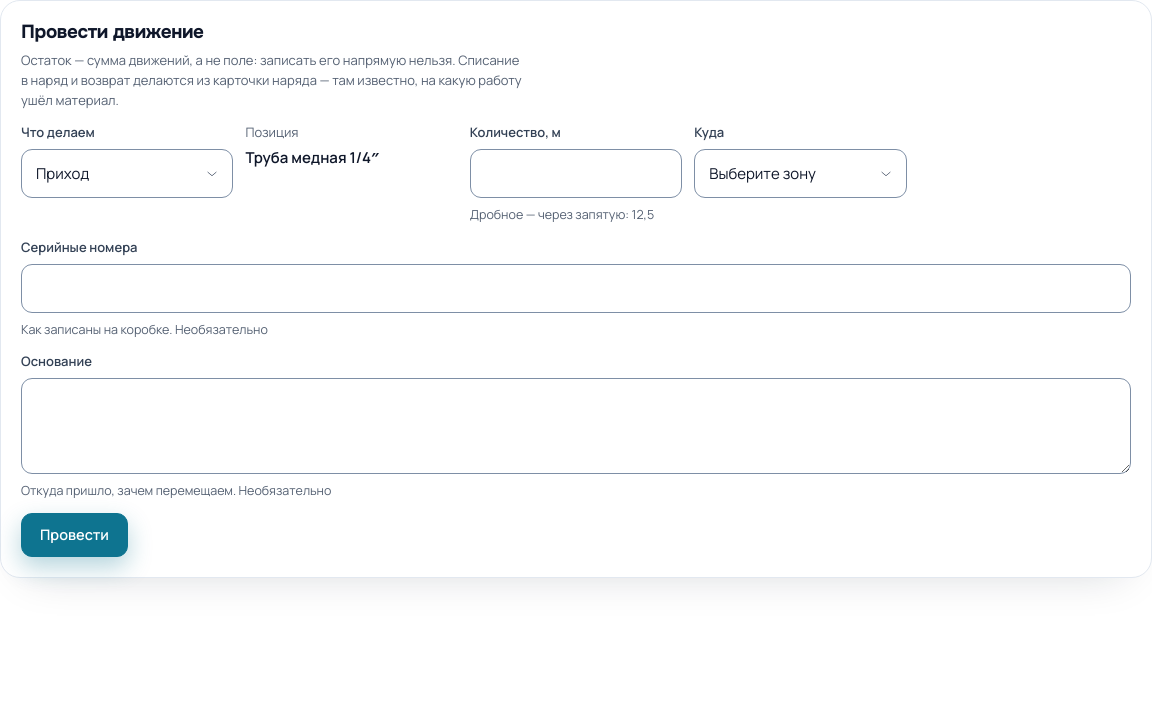
Test case: Форма движения › приход: позиция, количество и зона — больше ничего не требуется
Type "12,5" into the field labelled "Количество, м" at (576, 174), box [470, 149, 682, 198]
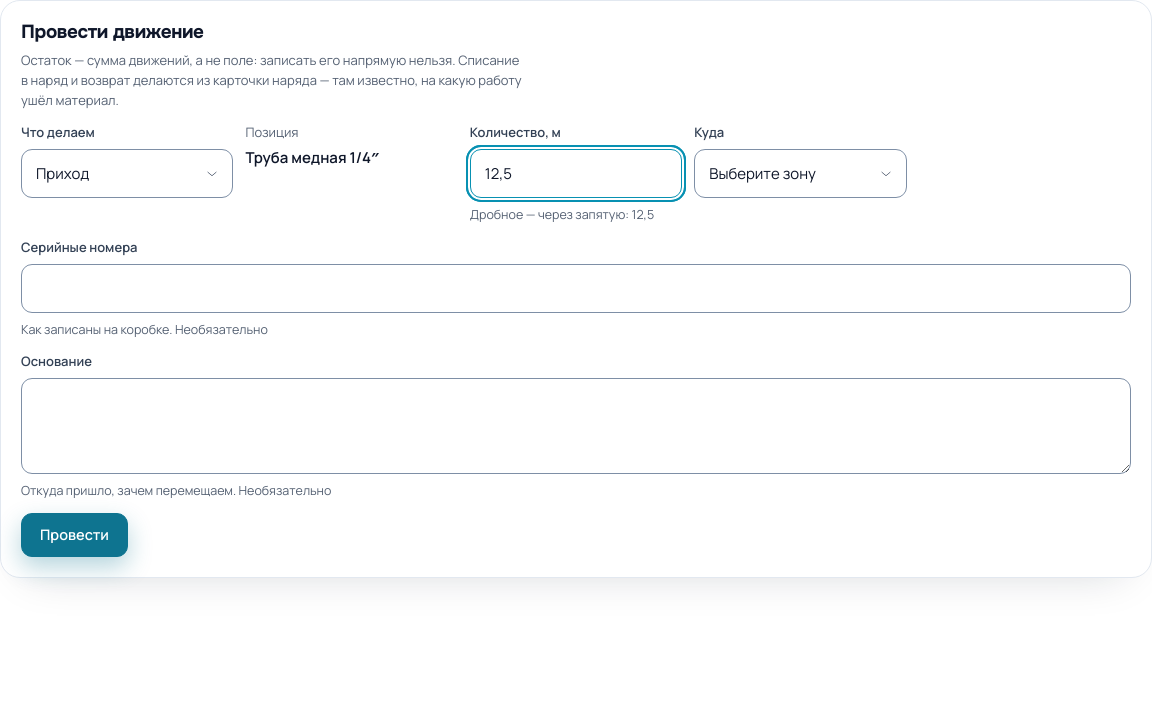
Select "Гараж на Демидовской" in the dropdown labelled "Куда" at (800, 174), box [694, 149, 907, 198]
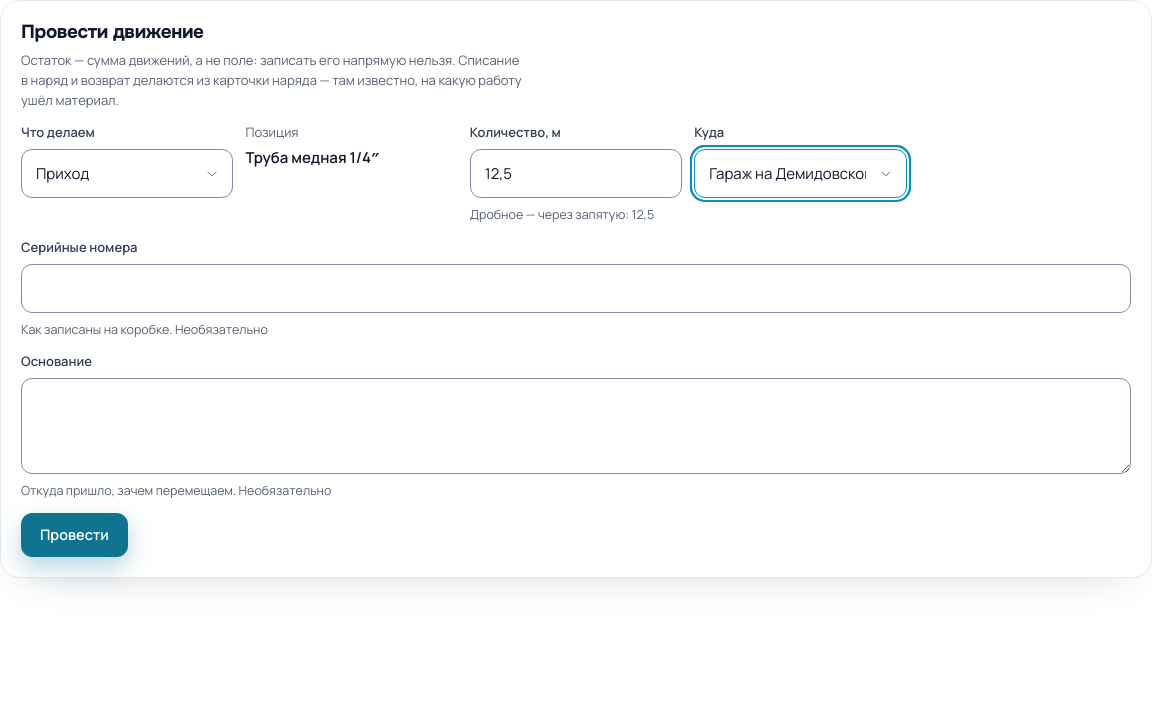
Click the button "Провести" at (74, 535), box [21, 513, 128, 557]
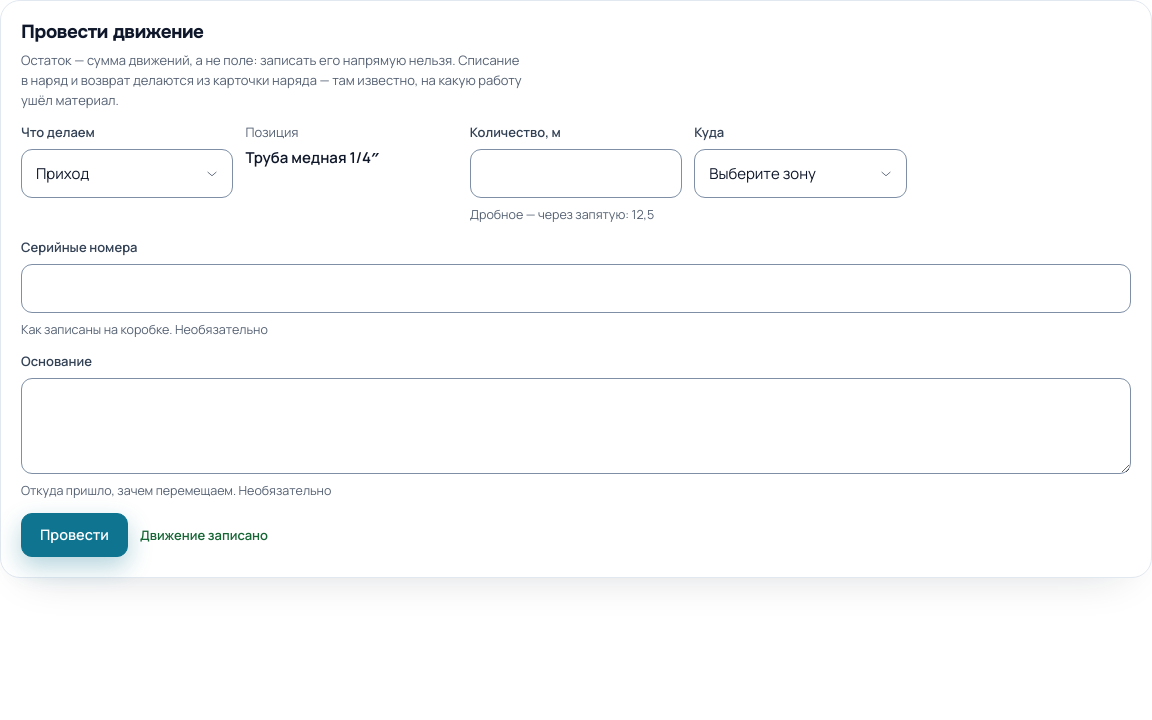
Result: the text "Движение записано" is shown at [140, 524, 268, 545]
Result: the field labelled "Количество, м" is empty at [470, 149, 682, 198]
